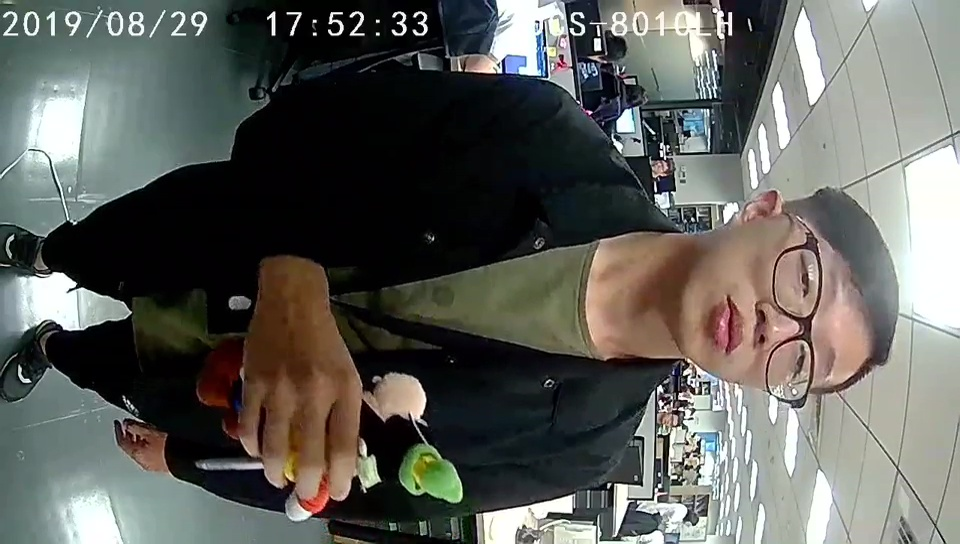goofy: (195, 339, 465, 522)
